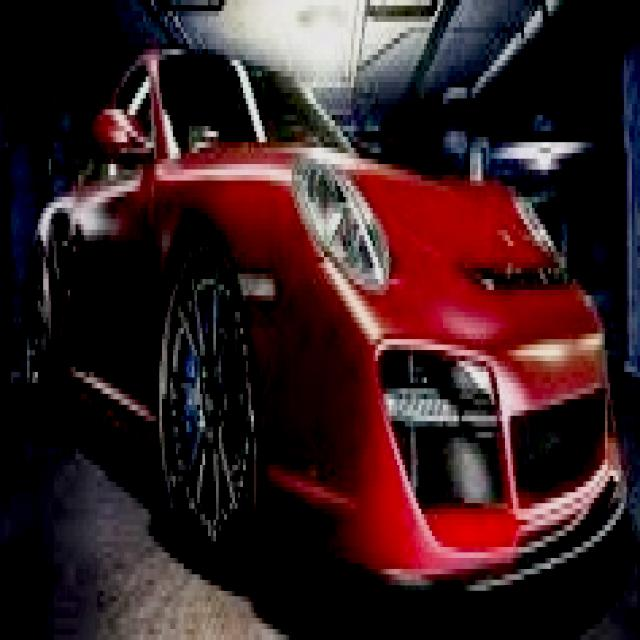red: (0, 52, 616, 602)
